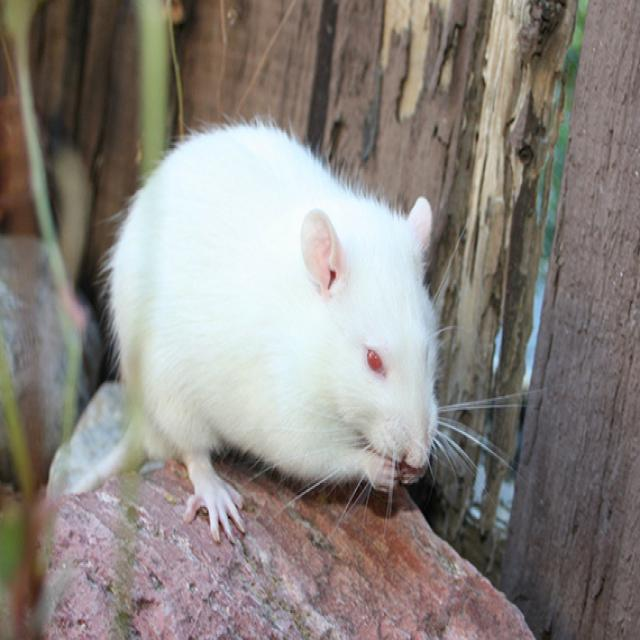rodents: (90, 94, 487, 528)
